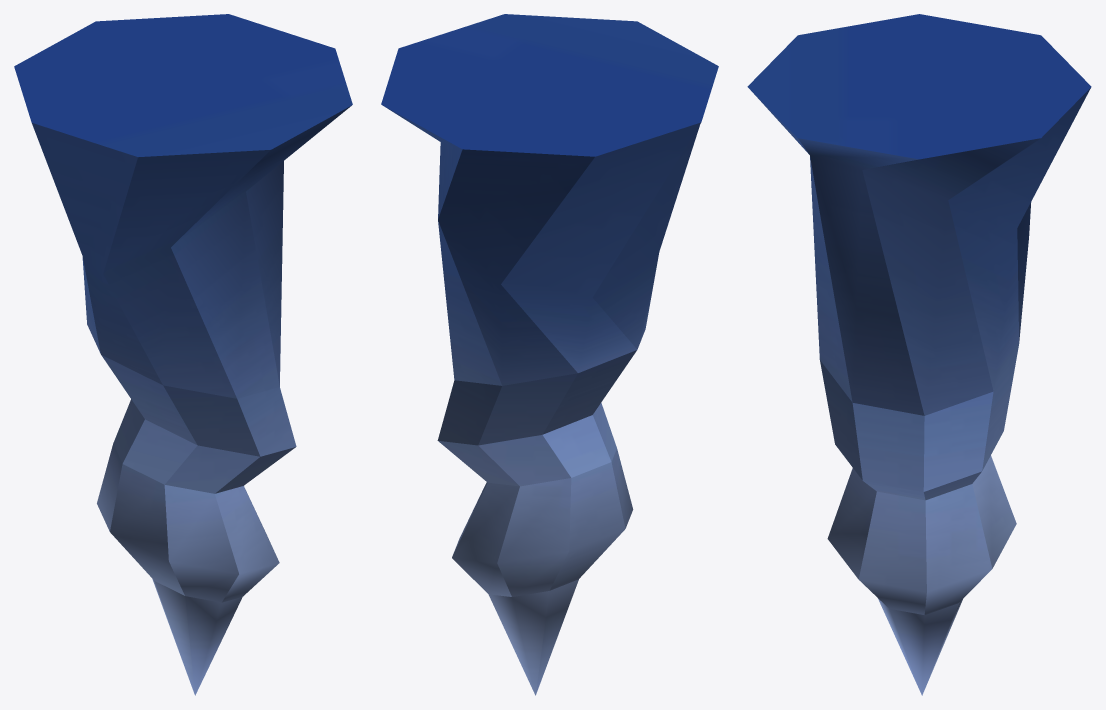
The model's file is Big Icicle model.fbx.
3 renders of one model, left to right at view 1: azimuth 30°, elevation 25°; view 2: azimuth 150°, elevation 25°; view 3: azimuth 270°, elevation 25°, orthographic.
Parts seen in each view (by area): view 1: Big_Icicle; view 2: Big_Icicle; view 3: Big_Icicle.
Boxes of the visible parts, bbox=[...] form: Big_Icicle: bbox=[14, 14, 352, 695]; Big_Icicle: bbox=[381, 14, 718, 695]; Big_Icicle: bbox=[747, 14, 1091, 695].
Size of the model in its own units: 2.35 by 4.55 by 2.35.
